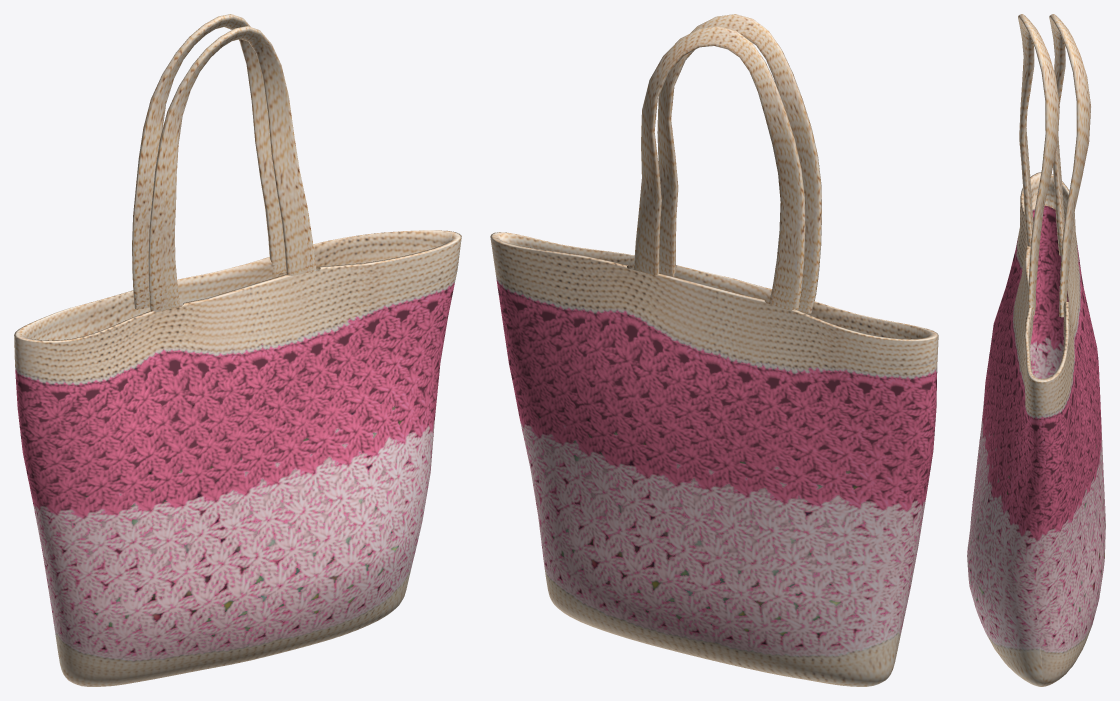
Rendered from bolsa4rosapink.glb.
3 renders of one model, left to right at view 1: azimuth 30°, elevation 25°; view 2: azimuth 150°, elevation 25°; view 3: azimuth 270°, elevation 25°, orthographic. The views are drawn at different scales.
Parts seen in each view (by area): view 1: polySurface1, polySurface2, polySurface4; view 2: polySurface1, polySurface4, polySurface2; view 3: polySurface1, polySurface2, polySurface4.
Boxes of the visible parts, x1,y1,x2,y2 form: polySurface1: (14,230,461,686); polySurface2: (148,26,316,312); polySurface4: (132,14,286,309); polySurface1: (490,232,938,686); polySurface4: (633,26,805,310); polySurface2: (657,14,821,313); polySurface1: (967,172,1105,686); polySurface2: (1018,14,1059,315); polySurface4: (1049,14,1090,317).
Bounding box in the file's own units: 24.14 × 32.94 × 6.88.
Materials: 1 (1 with a texture image).
